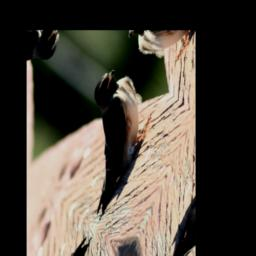Swallow: (52, 59, 162, 223)
